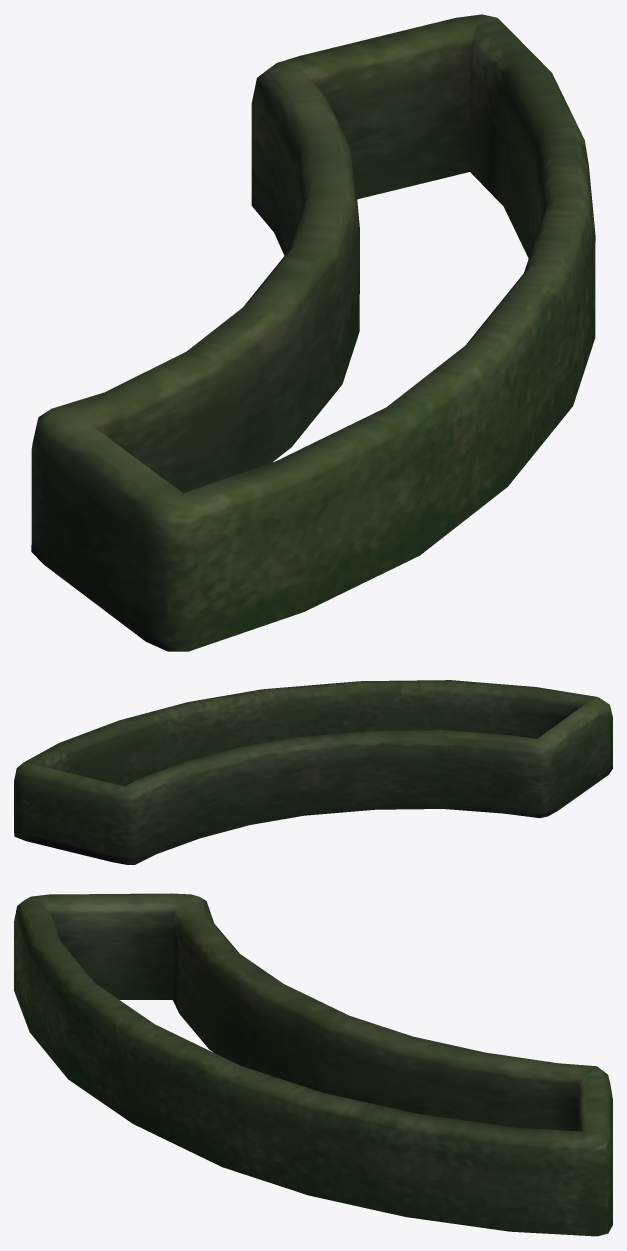
File: Level02_Hedge_update.fbx
3 renders of one model, top to bottom at view 1: azimuth 30°, elevation 25°; view 2: azimuth 150°, elevation 25°; view 3: azimuth 270°, elevation 25°, orthographic. The views are drawn at different scales.
Parts seen in each view (by area): view 1: Hedge; view 2: Hedge; view 3: Hedge.
Part boxes in pixels (left/top/right/bottom): Hedge: left=31, top=14, right=595, bottom=651; Hedge: left=14, top=680, right=612, bottom=864; Hedge: left=14, top=893, right=612, bottom=1236.
Bounding box in the file's own units: 1960 × 341 × 1959.
